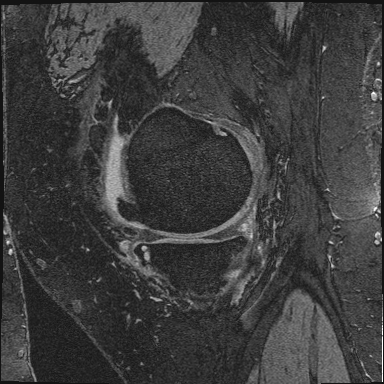effusion: (107, 140, 129, 202)
